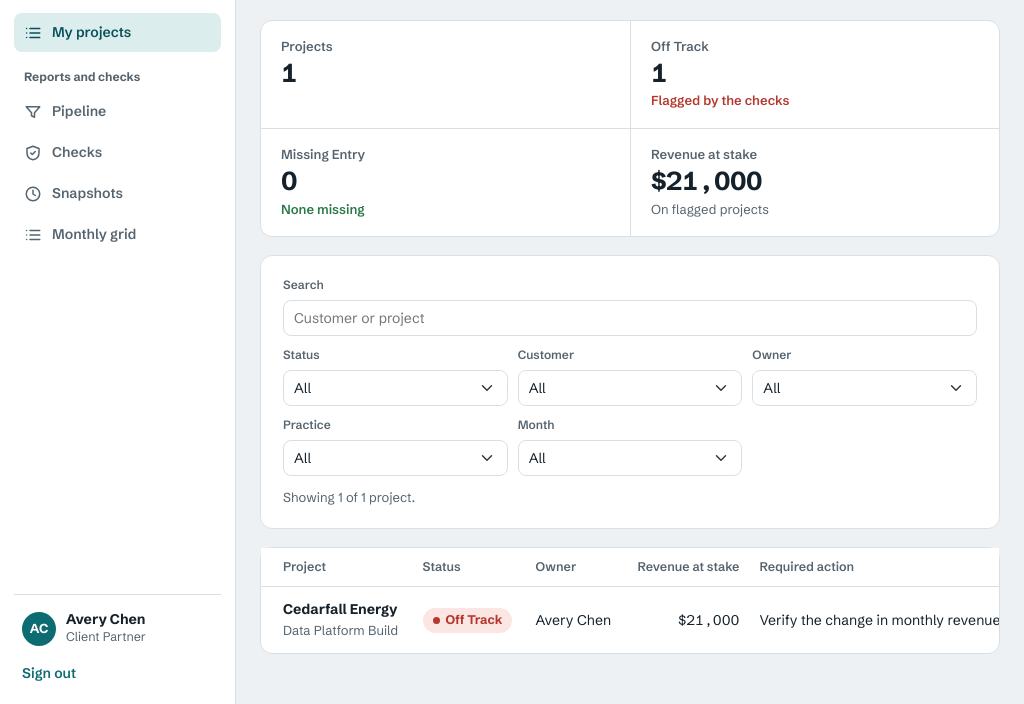
Test: Project page › shows the summary, what needs attention and the change history
This screenshot has width=1024, height=704.
(page scrolled)
Click the row named "Open Cedarfall Energy" at (340, 609), box [261, 587, 1023, 653]
(page scrolled)
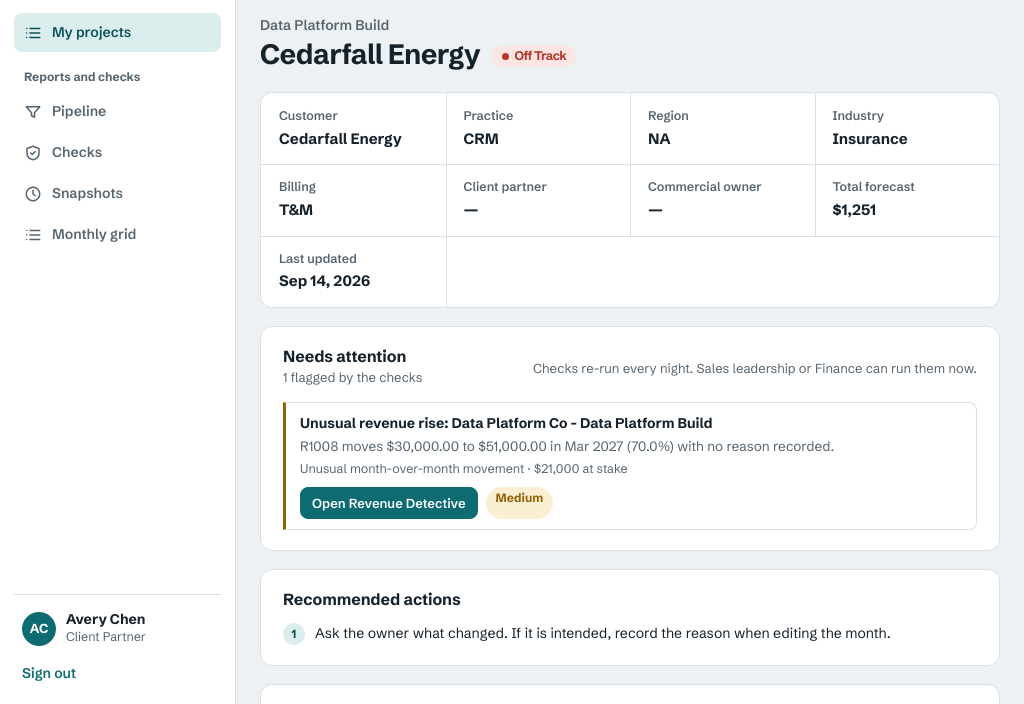
Expected: the heading "Cedarfall Energy Off Track" is shown, [260, 38, 576, 70]
Expected: the text "with no reason recorded" is shown, [300, 438, 834, 454]
Expected: the text "Unusual month-over-month movement · $21,000 at stake" is shown, [300, 461, 628, 476]
